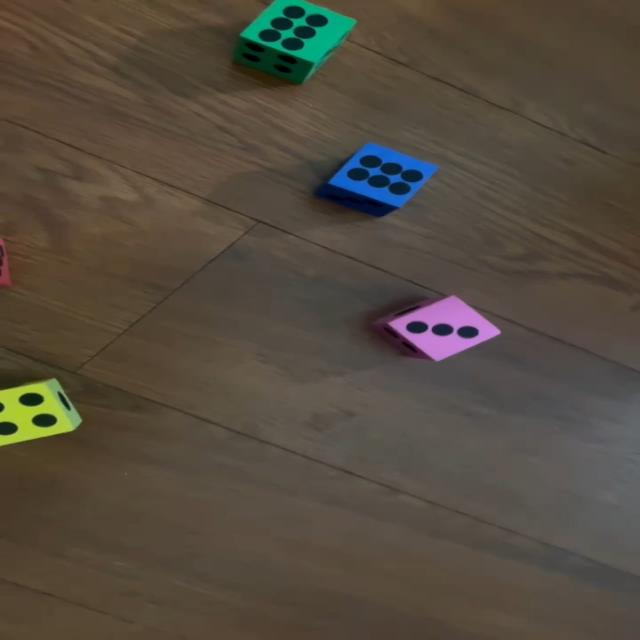blue_block: (315, 142, 441, 220)
red_block: (0, 239, 13, 284)
